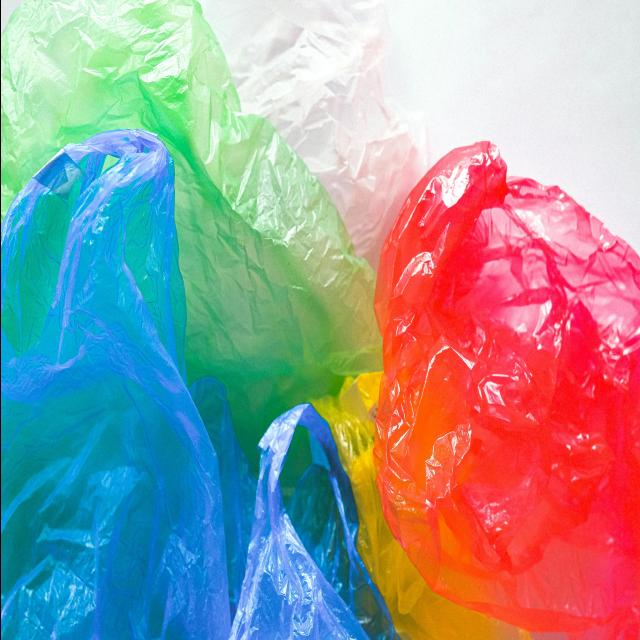plastik: (0, 0, 381, 463), (373, 141, 640, 640), (0, 132, 232, 640), (201, 0, 427, 270), (312, 372, 533, 640), (227, 403, 399, 640), (189, 376, 256, 621)
